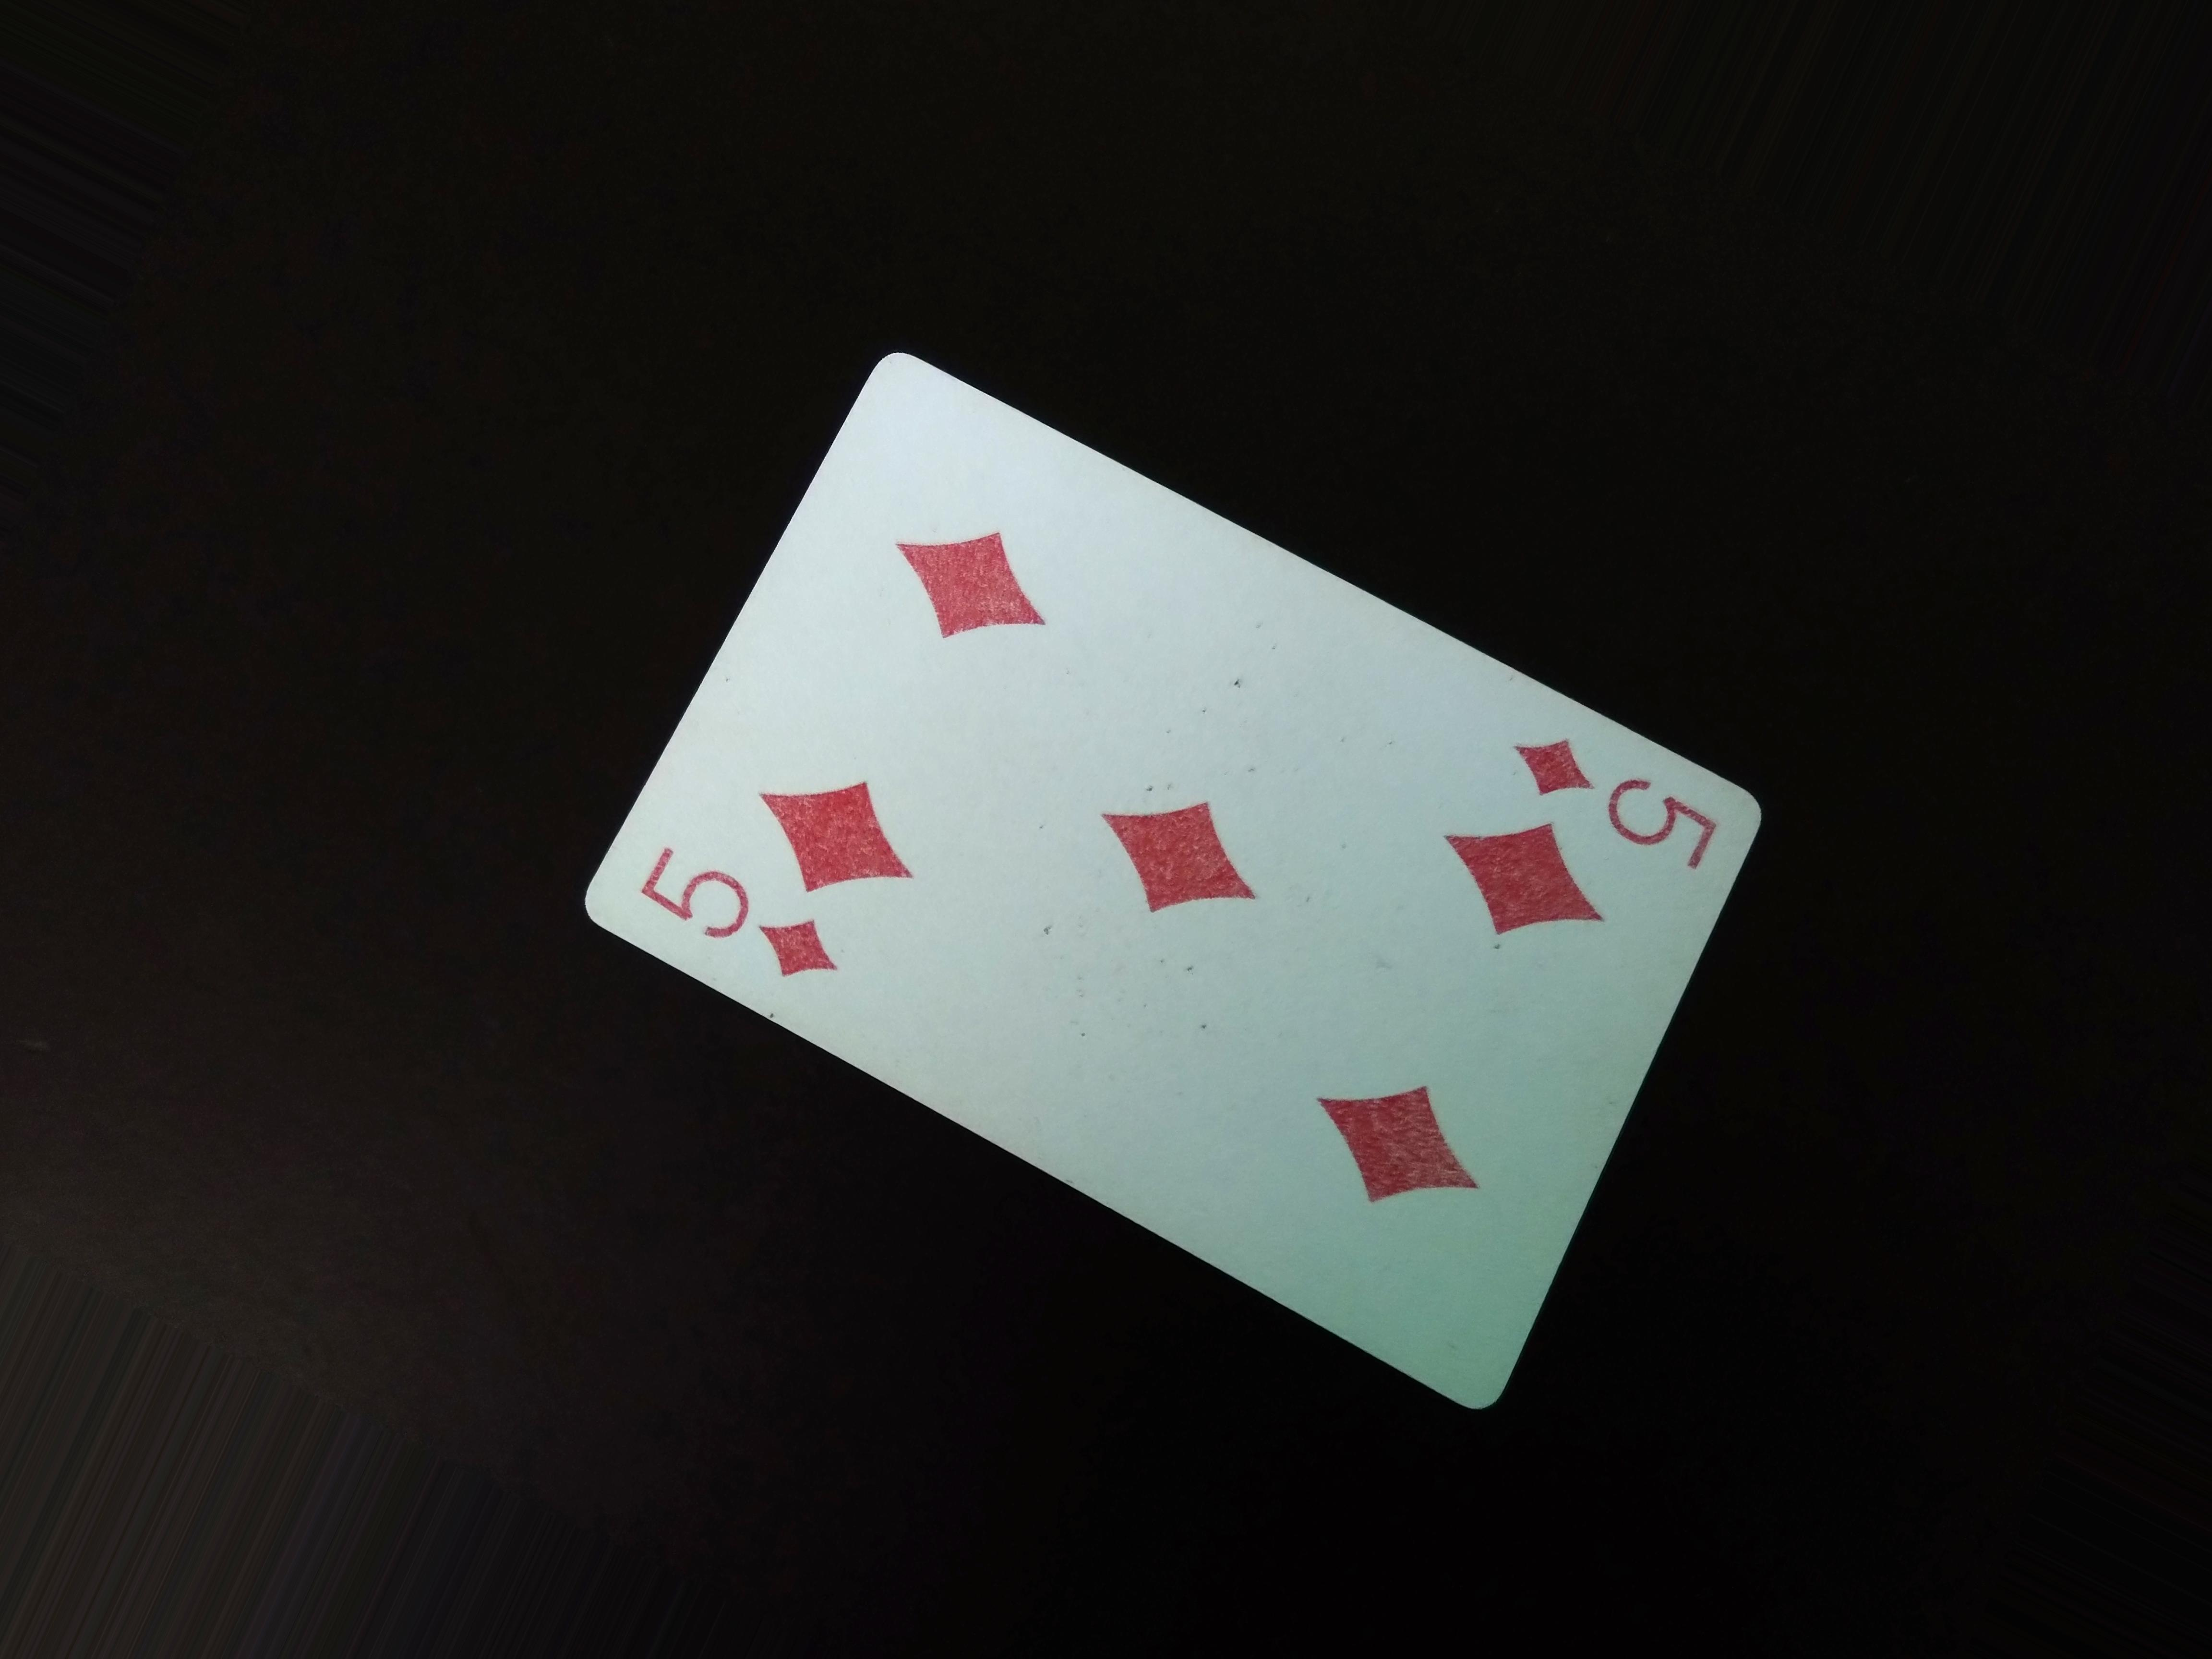5D: (634, 835, 841, 986)
